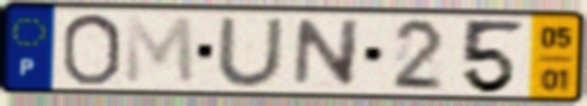2: (389, 17, 447, 94)
5: (456, 17, 529, 95)
M: (123, 13, 199, 88)
N: (289, 17, 364, 90)
O: (58, 11, 125, 88)
U: (213, 15, 287, 90)
